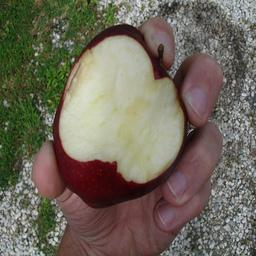apple: (52, 23, 187, 209)
